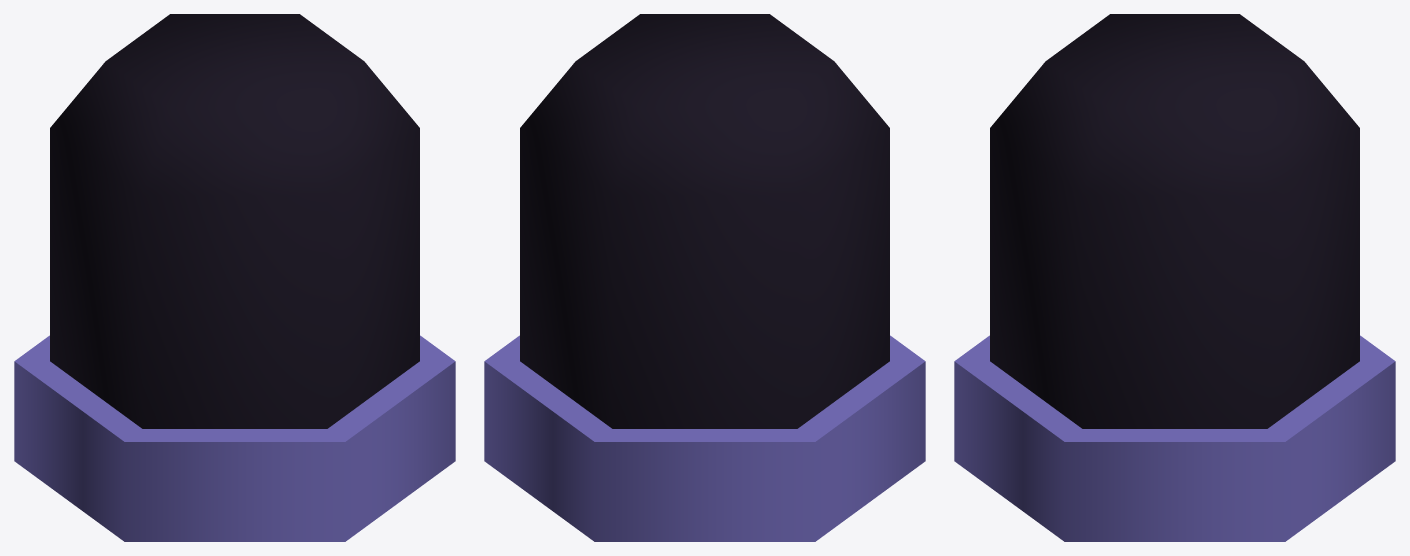
The model's file is ovenlight.fbx.
3 renders of one model, left to right at view 1: azimuth 30°, elevation 25°; view 2: azimuth 150°, elevation 25°; view 3: azimuth 270°, elevation 25°, orthographic.
Parts seen in each view (by area): view 1: Cylinder.005, Cylinder.015; view 2: Cylinder.005, Cylinder.015; view 3: Cylinder.005, Cylinder.015.
Part boxes in pixels (<box>): Cylinder.005: <box>50,14,419,428</box>; Cylinder.015: <box>14,335,455,541</box>; Cylinder.005: <box>520,14,889,428</box>; Cylinder.015: <box>484,335,925,541</box>; Cylinder.005: <box>990,14,1359,428</box>; Cylinder.015: <box>954,335,1395,541</box>.
Size of the model in its own units: 10.39 by 12 by 12.
